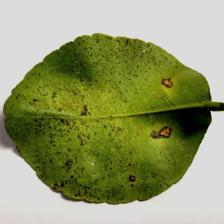canker: (18, 55, 180, 190)
